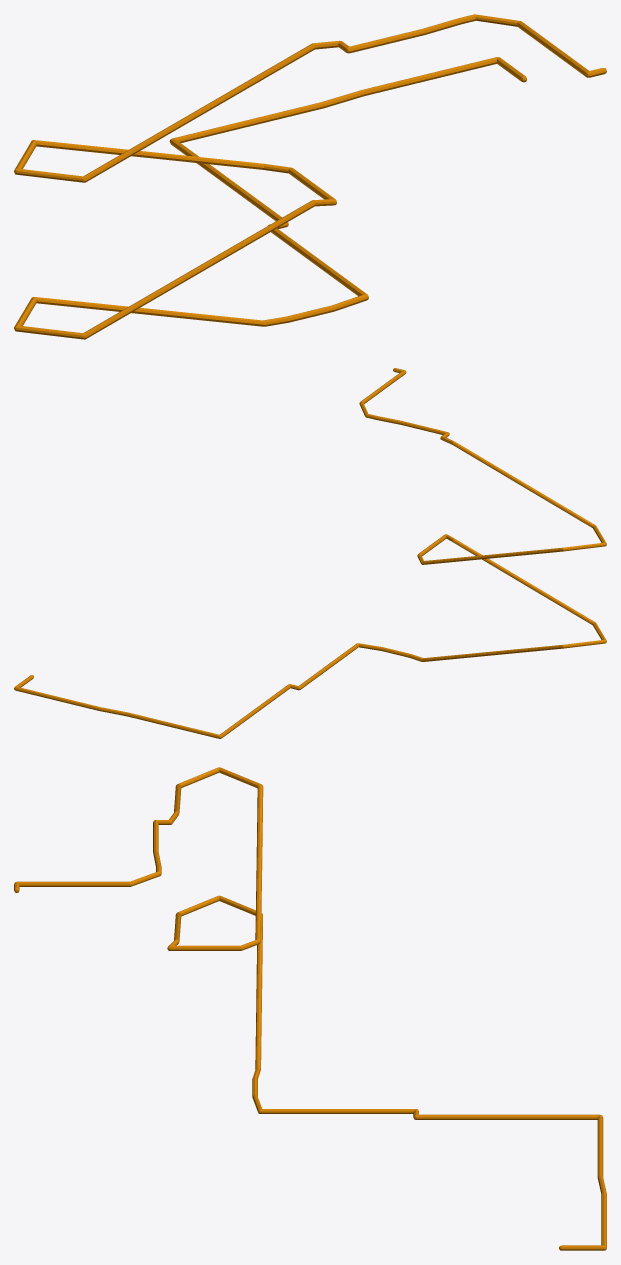
3 views of the same model, one above another, from view 1: azimuth 30°, elevation 25°; view 2: azimuth 150°, elevation 25°; view 3: azimuth 270°, elevation 25° (orthographic). The views are drawn at different scales.
Size of the model in its own units: 2408 by 1020 by 2094.
